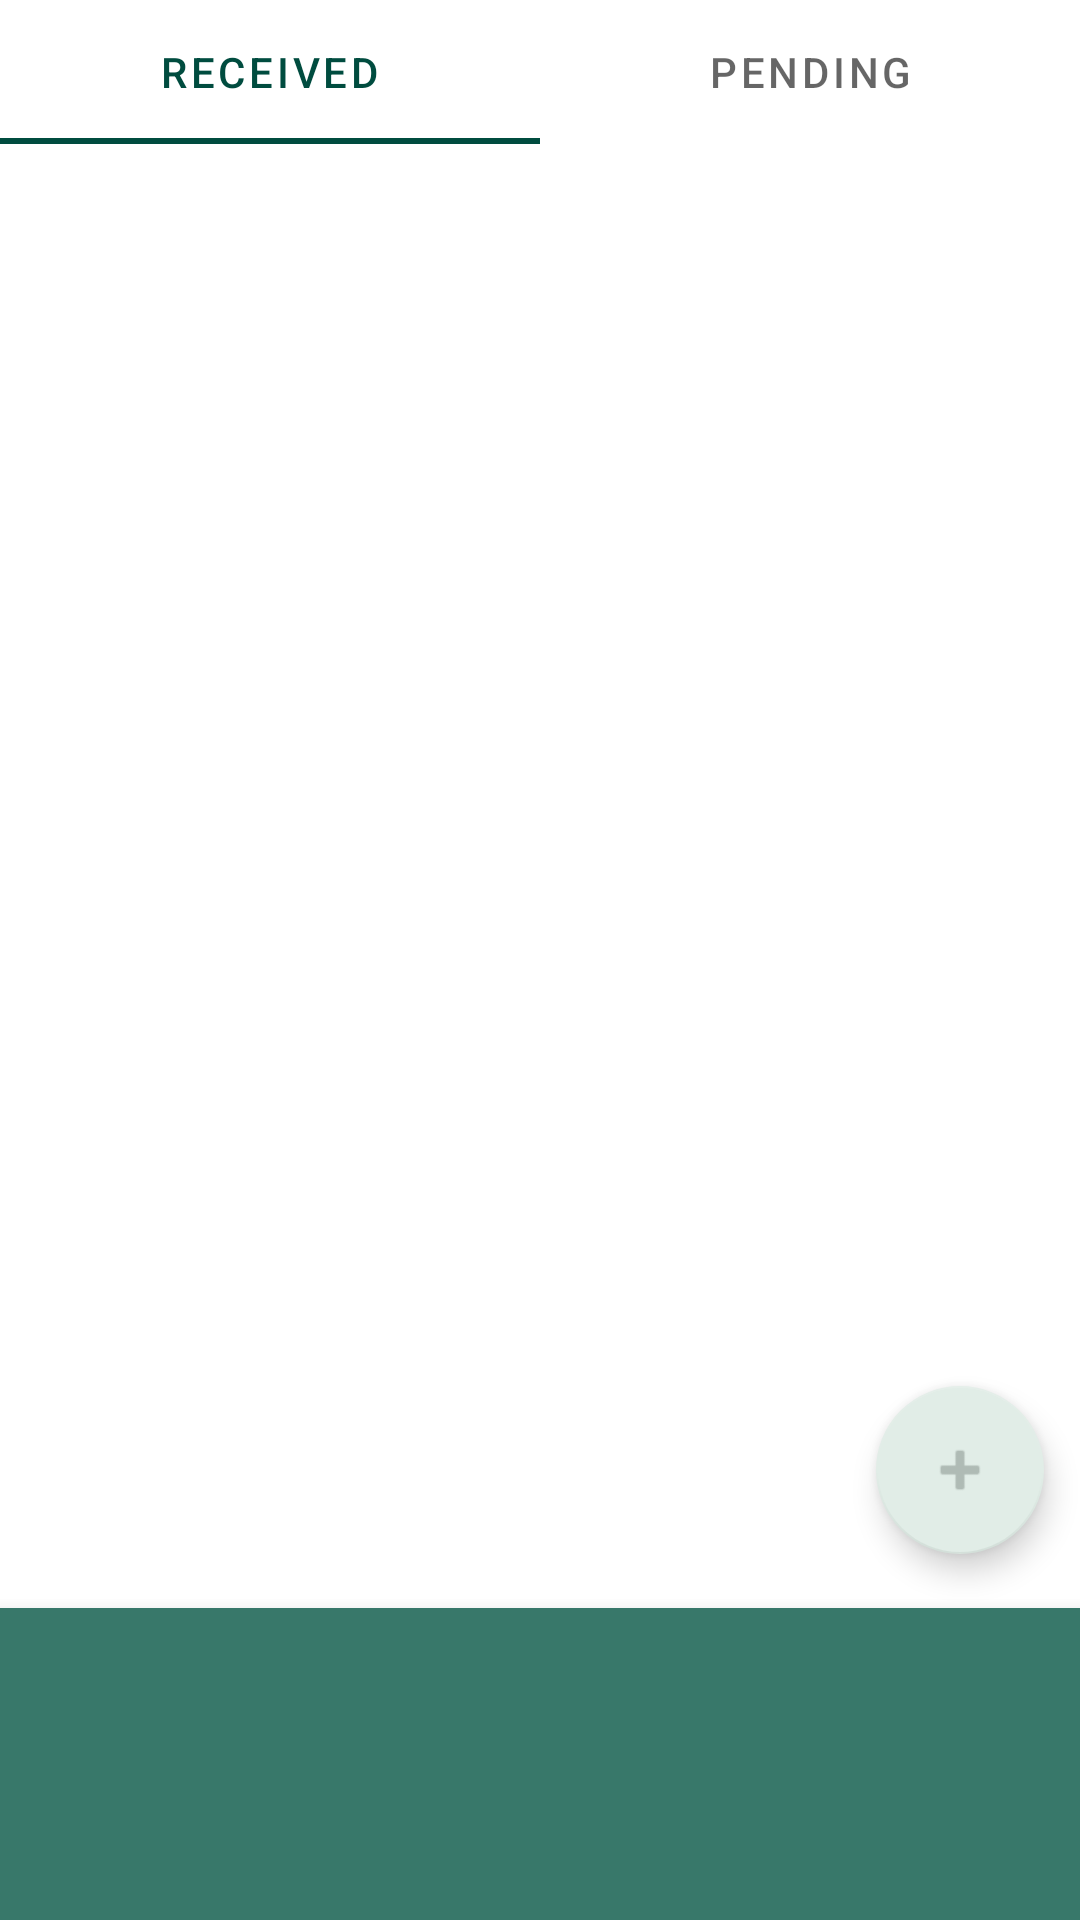

Icons on this 1080w x 1920h Android screen, each with its box as (x1, y1, x2, y2):
add: (876, 1386, 1047, 1568)
